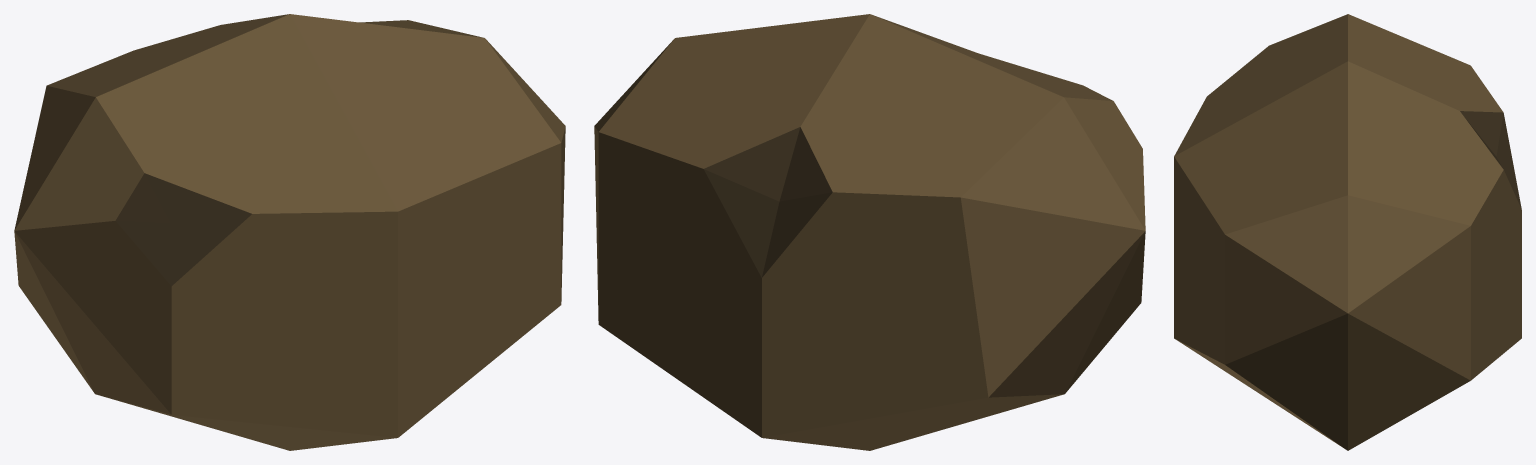
The model's file is potato_01.fbx.
The picture shows the model from 3 angles, left to right: view 1: azimuth 30°, elevation 25°; view 2: azimuth 150°, elevation 25°; view 3: azimuth 270°, elevation 25°; orthographic projection. The views are drawn at different scales.
Visible parts, largest first — view 1: potato_01; view 2: potato_01; view 3: potato_01.
Boxes of the visible parts, x1,y1,x2,y2 form: potato_01: [14, 14, 565, 450]; potato_01: [594, 14, 1145, 450]; potato_01: [1174, 14, 1521, 450].
Bounding box in the file's own units: 0.3869 × 0.293 × 0.2629.
